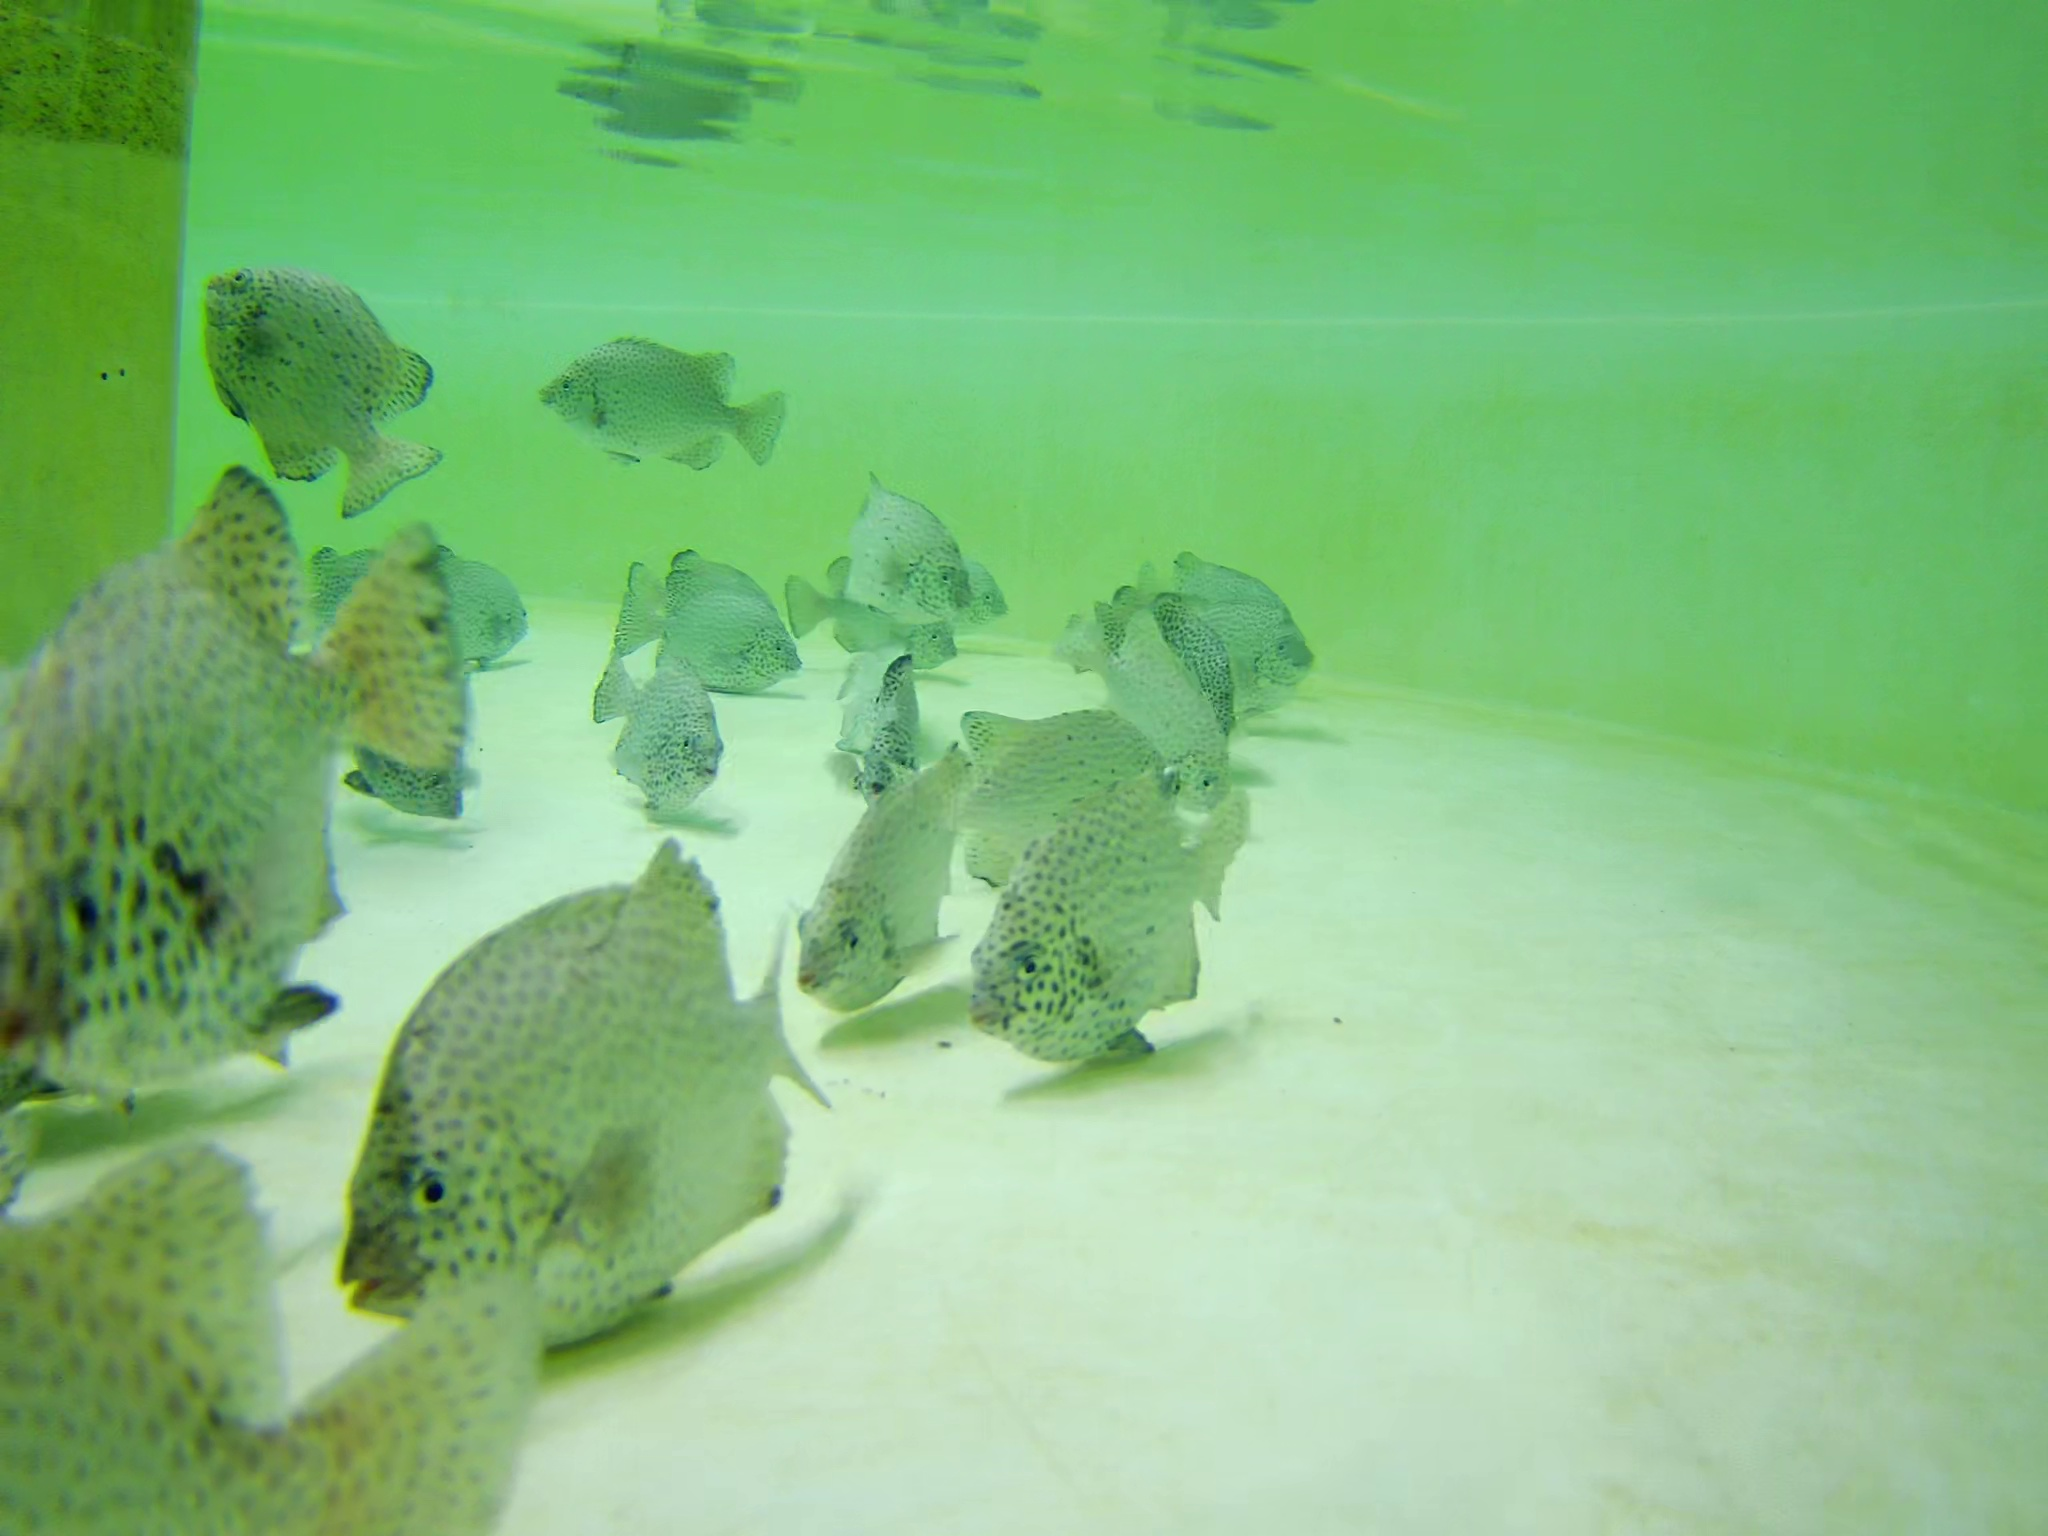fish: (11, 531, 469, 1070), (339, 842, 824, 1350), (13, 1100, 543, 1536), (951, 773, 1247, 1066), (198, 265, 453, 511), (940, 692, 1169, 902), (780, 750, 959, 1002), (537, 328, 795, 486), (1047, 599, 1222, 805), (1126, 541, 1306, 718), (613, 541, 797, 712), (337, 532, 526, 658), (782, 552, 956, 671), (593, 642, 722, 797), (850, 484, 984, 629), (356, 689, 466, 831), (1134, 587, 1237, 720), (889, 547, 1008, 642), (861, 652, 924, 787)
